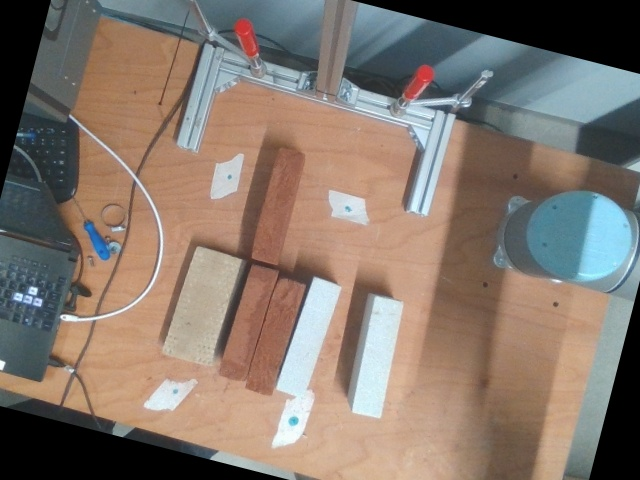brick: (165, 246, 241, 365)
brick-side: (275, 278, 341, 398), (244, 276, 304, 394), (218, 265, 276, 382), (350, 297, 402, 416), (251, 149, 302, 264)
